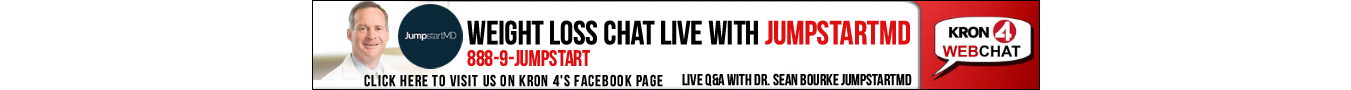fake_button: (925, 16, 1042, 65)
